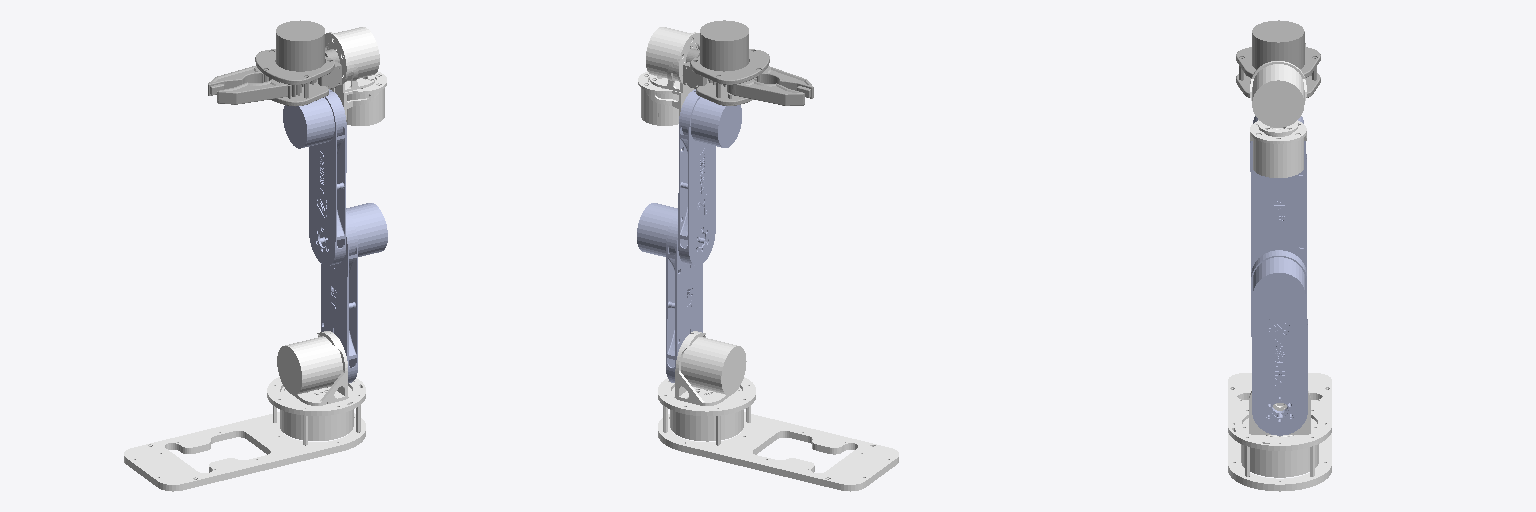
robot.urdf — arm_urdf:
<?xml version="1.0" encoding="utf-8" ?>
<!-- This URDF was automatically created by SolidWorks to URDF Exporter! Originally created by [author] ([email redacted]) 
     Commit Version: 1.6.0-4-g7f85cfe  Build Version: 1.6.7995.38578
     For more information, please see http://wiki.ros.org/sw_urdf_exporter -->
<robot name="arm_urdf">
    <link name="base_link">
        <inertial>
            <origin xyz="-0.0388232107706779 3.72396888084995E-05 0.0209550646938778" rpy="0 0 0" />
            <mass value="0.375659879307536" />
            <inertia ixx="0.000329376556815834" ixy="-3.35635995035541E-07" ixz="-9.47048393300244E-08" iyy="0.00105487516866698" iyz="2.12794400771097E-09" izz="0.00133736269030542" />
        </inertial>
        <visual>
            <origin xyz="0 0 0" rpy="0 0 0" />
            <geometry>
                <mesh filename="package://arm_urdf/meshes/base_link.STL" />
            </geometry>
            <material name="">
                <color rgba="1 1 1 1" />
            </material>
        </visual>
        <collision>
            <origin xyz="0 0 0" rpy="0 0 0" />
            <geometry>
                <mesh filename="package://arm_urdf/meshes/base_link.STL" />
            </geometry>
        </collision>
    </link>
    <link name="link_1">
        <inertial>
            <origin xyz="-5.63085350857487E-06 -0.00560351869705136 0.0318181204775903" rpy="0 0 0" />
            <mass value="0.156385897016896" />
            <inertia ixx="7.16561662591462E-05" ixy="-6.98036304188648E-09" ixz="-1.36761160458711E-08" iyy="7.48660430943842E-05" iyz="-4.24425430912434E-06" izz="7.20388709562081E-05" />
        </inertial>
        <visual>
            <origin xyz="0 0 0" rpy="0 0 0" />
            <geometry>
                <mesh filename="package://arm_urdf/meshes/link_1.STL" />
            </geometry>
            <material name="">
                <color rgba="1 1 1 1" />
            </material>
        </visual>
        <collision>
            <origin xyz="0 0 0" rpy="0 0 0" />
            <geometry>
                <mesh filename="package://arm_urdf/meshes/link_1.STL" />
            </geometry>
        </collision>
    </link>
    <joint name="joint_1" type="revolute">
        <origin xyz="0 0 0.0503" rpy="0 0 -1.5708" />
        <parent link="base_link" />
        <child link="link_1" />
        <axis xyz="0 0 1" />
        <limit lower="-3.14" upper="3.14" effort="10" velocity="1" />
    </joint>
    <link name="link_2">
        <inertial>
            <origin xyz="0.121025012481005 -1.62375377122692E-05 -0.0242549258047306" rpy="0 0 0" />
            <mass value="0.181748007640186" />
            <inertia ixx="6.84427901616071E-05" ixy="4.63311594672083E-08" ixz="5.43331992296493E-07" iyy="0.000217957173961348" iyz="1.11219881210018E-08" izz="0.000231554609959714" />
        </inertial>
        <visual>
            <origin xyz="0 0 0" rpy="0 0 0" />
            <geometry>
                <mesh filename="package://arm_urdf/meshes/link_2.STL" />
            </geometry>
            <material name="">
                <color rgba="0.796078431372549 0.823529411764706 0.937254901960784 1" />
            </material>
        </visual>
        <collision>
            <origin xyz="0 0 0" rpy="0 0 0" />
            <geometry>
                <mesh filename="package://arm_urdf/meshes/link_2.STL" />
            </geometry>
        </collision>
    </link>
    <joint name="joint_2" type="revolute">
        <origin xyz="0 0.0185 0.035" rpy="1.5708 -1.5651 0" />
        <parent link="link_1" />
        <child link="link_2" />
        <axis xyz="0 0 -1" />
        <limit lower="-1.57" upper="1.57" effort="10" velocity="1" />
    </joint>
    <link name="link_3">
        <inertial>
            <origin xyz="0.119206812196477 -1.81795165103412E-05 0.0215976443773329" rpy="0 0 0" />
            <mass value="0.166528397754264" />
            <inertia ixx="5.79169545128603E-05" ixy="3.30081995958204E-08" ixz="-3.42688208751837E-08" iyy="0.000210132028638304" iyz="-1.07506358074034E-08" izz="0.000226523633526329" />
        </inertial>
        <visual>
            <origin xyz="0 0 0" rpy="0 0 0" />
            <geometry>
                <mesh filename="package://arm_urdf/meshes/link_3.STL" />
            </geometry>
            <material name="">
                <color rgba="0.796078431372549 0.823529411764706 0.937254901960784 1" />
            </material>
        </visual>
        <collision>
            <origin xyz="0 0 0" rpy="0 0 0" />
            <geometry>
                <mesh filename="package://arm_urdf/meshes/link_3.STL" />
            </geometry>
        </collision>
    </link>
    <joint name="joint_3" type="revolute">
        <origin xyz="0.15 0 -0.0044" rpy="0 0 0" />
        <parent link="link_2" />
        <child link="link_3" />
        <axis xyz="0 0 1" />
        <limit lower="-2.57" upper="2.57" effort="10" velocity="1" />
    </joint>
    <link name="link_4">
        <inertial>
            <origin xyz="-1.48574454818078E-08 0.0128323541378314 -0.033157535804722" rpy="0 0 0" />
            <mass value="0.109264788641728" />
            <inertia ixx="3.88924804997008E-05" ixy="-2.92648032249586E-10" ixz="4.05757731065477E-11" iyy="4.38202381085121E-05" iyz="2.37241359438635E-06" izz="3.76327115869124E-05" />
        </inertial>
        <visual>
            <origin xyz="0 0 0" rpy="0 0 0" />
            <geometry>
                <mesh filename="package://arm_urdf/meshes/link_4.STL" />
            </geometry>
            <material name="">
                <color rgba="1 1 1 1" />
            </material>
        </visual>
        <collision>
            <origin xyz="0 0 0" rpy="0 0 0" />
            <geometry>
                <mesh filename="package://arm_urdf/meshes/link_4.STL" />
            </geometry>
        </collision>
    </link>
    <joint name="joint_4" type="revolute">
        <origin xyz="0.15 0 0.0035" rpy="0 0 -1.5651" />
        <parent link="link_3" />
        <child link="link_4" />
        <axis xyz="0 0 -1" />
        <limit lower="-3.14" upper="3.14" effort="10" velocity="1" />
    </joint>
    <link name="link_5">
        <inertial>
            <origin xyz="-1.43431724468433E-08 0.0127862361544324 -0.0332400019515298" rpy="0 0 0" />
            <mass value="0.113182480171704" />
            <inertia ixx="4.0905179067523E-05" ixy="-2.92648032312172E-10" ixz="4.0575773249388E-11" iyy="4.67480286671749E-05" iyz="2.37241359438651E-06" izz="3.96454101547342E-05" />
        </inertial>
        <visual>
            <origin xyz="0 0 0" rpy="0 0 0" />
            <geometry>
                <mesh filename="package://arm_urdf/meshes/link_5.STL" />
            </geometry>
            <material name="">
                <color rgba="1 1 1 1" />
            </material>
        </visual>
        <collision>
            <origin xyz="0 0 0" rpy="0 0 0" />
            <geometry>
                <mesh filename="package://arm_urdf/meshes/link_5.STL" />
            </geometry>
        </collision>
    </link>
    <joint name="joint_5" type="revolute">
        <origin xyz="0 0.033 -0.03554" rpy="1.5708 0 0" />
        <parent link="link_4" />
        <child link="link_5" />
        <axis xyz="0 0 -1" />
        <limit lower="-3.14" upper="3.14" effort="10" velocity="1" />
    </joint>
    <link name="link_6">
        <inertial>
            <origin xyz="-0.000202191869838614 0.00409019537321847 0.0546698484271652" rpy="0 0 0" />
            <mass value="0.243270290247563" />
            <inertia ixx="0.000114446874039496" ixy="-6.57266446669074E-09" ixz="1.78728706501701E-06" iyy="0.000153926693239007" iyz="5.87199432930132E-06" izz="7.34182212431892E-05" />
        </inertial>
        <visual>
            <origin xyz="0 0 0" rpy="0 0 0" />
            <geometry>
                <mesh filename="package://arm_urdf/meshes/link_6.STL" />
            </geometry>
            <material name="">
                <color rgba="0.752941176470588 0.752941176470588 0.752941176470588 1" />
            </material>
        </visual>
        <collision>
            <origin xyz="0 0 0" rpy="0 0 0" />
            <geometry>
                <mesh filename="package://arm_urdf/meshes/link_6.STL" />
            </geometry>
        </collision>
    </link>
    <joint name="joint_6" type="revolute">
        <origin xyz="0 0.033 -0.03554" rpy="-1.5708 0 0" />
        <parent link="link_5" />
        <child link="link_6" />
        <axis xyz="0 0 1" />
        <limit lower="-3.14" upper="3.14" effort="10" velocity="1" />
    </joint>
    <!-- 夹爪的坐标系 -->
    <link name="grasp_point" />
    <joint name="grasp_joint" type="fixed">
        <parent link="link_6" />
        <child link="grasp_point" />
        <origin xyz="0 -0.0075 0.1409" rpy="0 0 0" />
    </joint>
</robot>

--- Facts derived from the render (not from the file) ---
The picture shows the robot from 3 angles, left to right: view 1: azimuth 30°, elevation 25°; view 2: azimuth 150°, elevation 25°; view 3: azimuth 270°, elevation 25°; orthographic projection.
Model arm_urdf with 8 links and 7 joints (6 revolute, 1 fixed), rooted at base_link, posed all joints at 0.
Visible links, largest first — view 1: base_link, link_3, link_6, link_2, link_1, link_5, link_4; view 2: base_link, link_3, link_6, link_2, link_1, link_5, link_4; view 3: link_2, base_link, link_3, link_6, link_5, link_4, link_1.
Boxes of the visible links, box(x1,y1,x2,y2) form: base_link: box(124, 377, 365, 491); link_3: box(283, 89, 346, 265); link_6: box(208, 20, 341, 106); link_2: box(321, 203, 387, 382); link_1: box(277, 331, 347, 405); link_5: box(325, 27, 379, 92); link_4: box(330, 72, 386, 125); base_link: box(658, 377, 898, 491); link_3: box(678, 89, 741, 265); link_6: box(683, 20, 813, 105); link_2: box(637, 203, 702, 382); link_1: box(675, 331, 746, 405); link_5: box(646, 27, 699, 92); link_4: box(638, 71, 694, 125); link_2: box(1251, 250, 1307, 435); base_link: box(1228, 373, 1331, 491); link_3: box(1250, 116, 1306, 271); link_6: box(1236, 20, 1320, 97); link_5: box(1250, 61, 1306, 136); link_4: box(1250, 121, 1306, 177); link_1: box(1249, 391, 1310, 434).
Size in the robot's own frame: 0.3085 by 0.11 by 0.4983 metres.
7 mesh visuals loaded from 7 distinct referenced files (7 binary STL).
